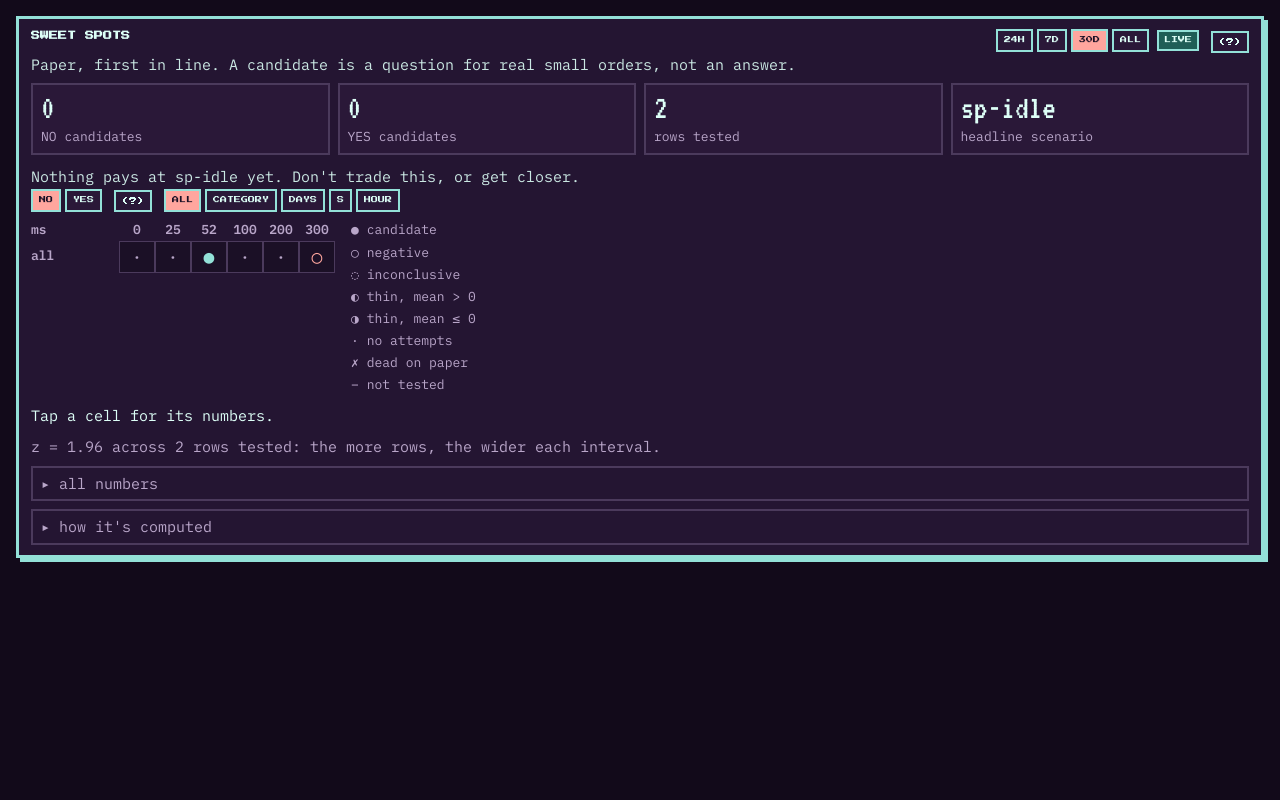
Sweet page › slices by category: the all row first, then its buckets; focus shows one detail line
Click the button "CATEGORY". click: [241, 200]
box: x1=205 y1=189 x2=277 y2=212
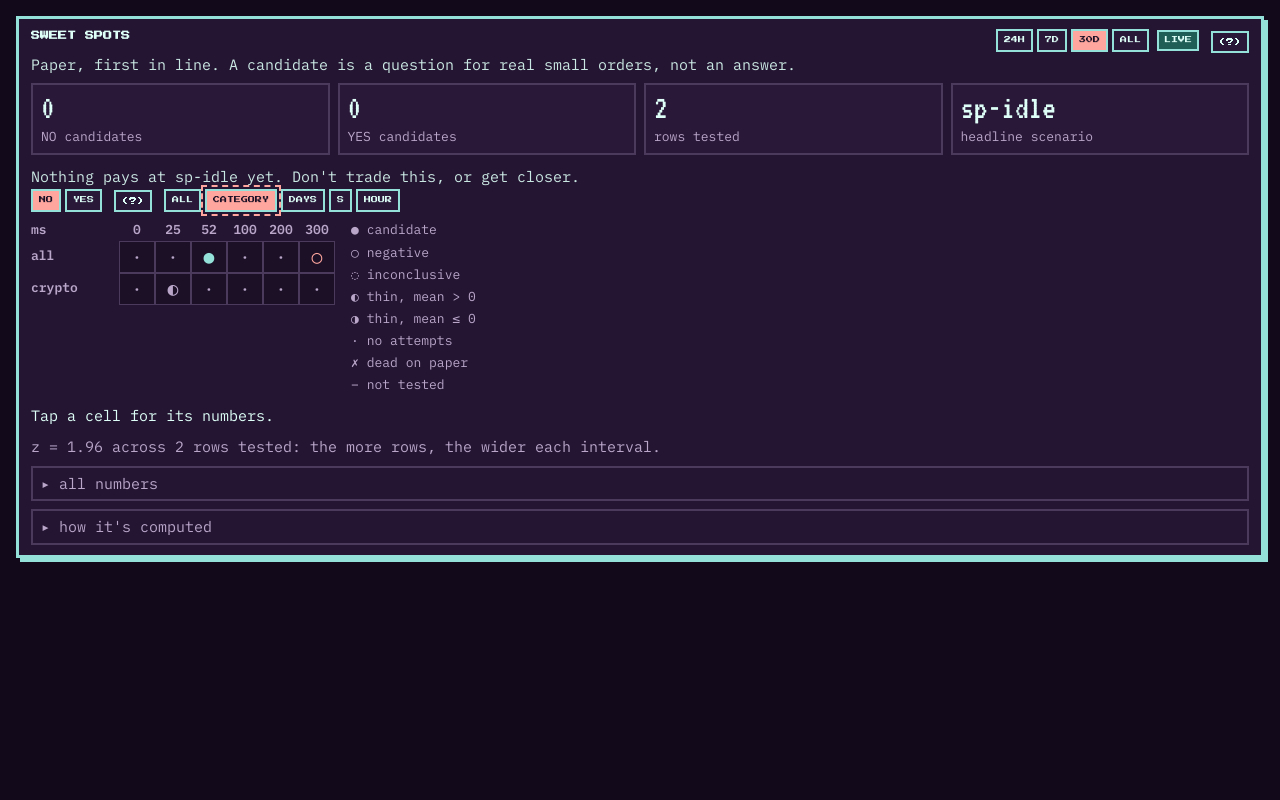
Now the button named "crypto at rung-25 (25 ms): thin, mean > 0" reads "◐"
Focus the button named "crypto at rung-25 (25 ms): thin, mean > 0". click: [173, 289]
box: x1=155 y1=273 x2=191 y2=305
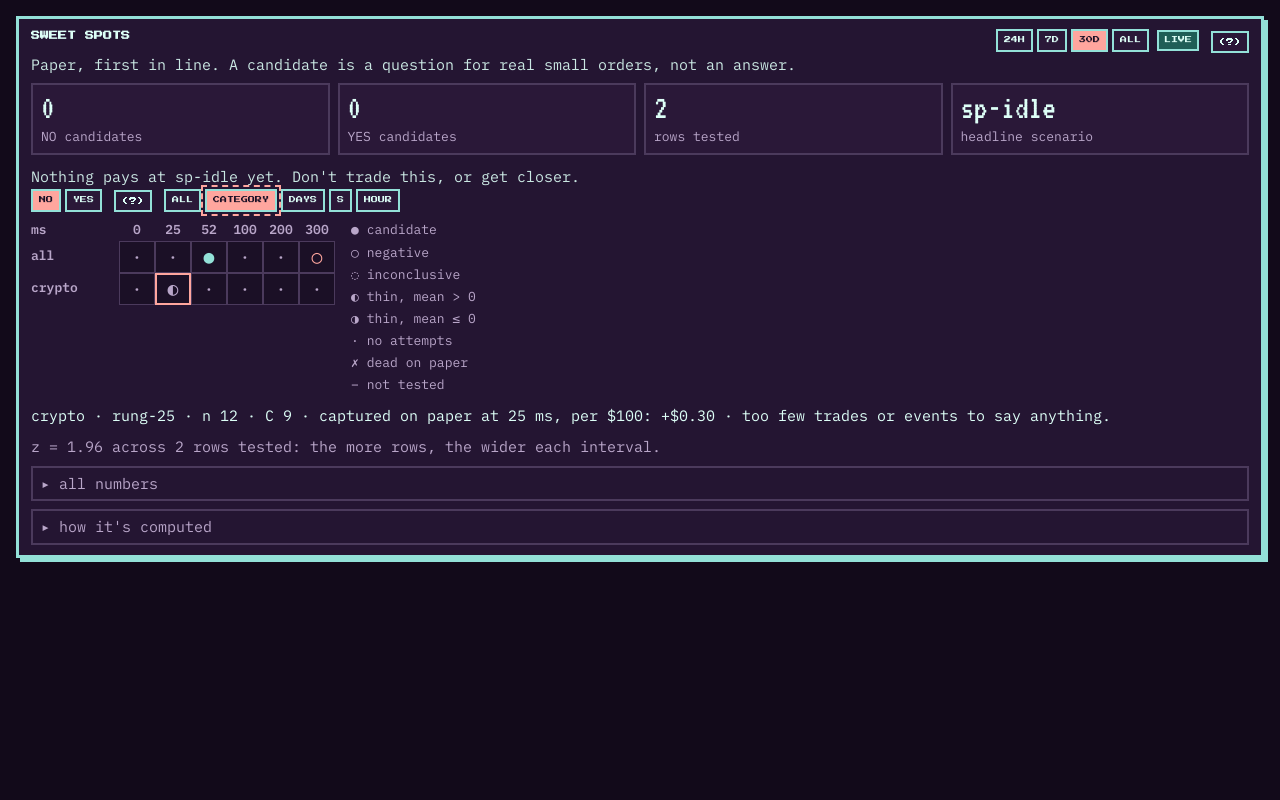
Now the text "crypto · rung-25 · n 12 · C 9 · captured on paper at 25 ms, per $100: +$0.30 · too few trades or events to say anything." is shown, box x1=31 y1=406 x2=1111 y2=424
